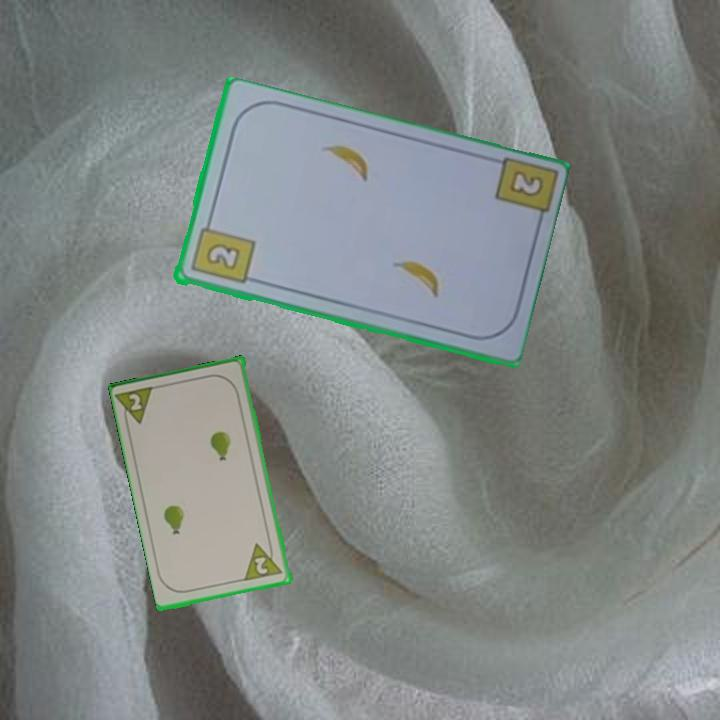2b: (187, 215, 257, 288), (505, 167, 547, 201)
2p: (115, 383, 159, 431), (242, 538, 286, 584)
